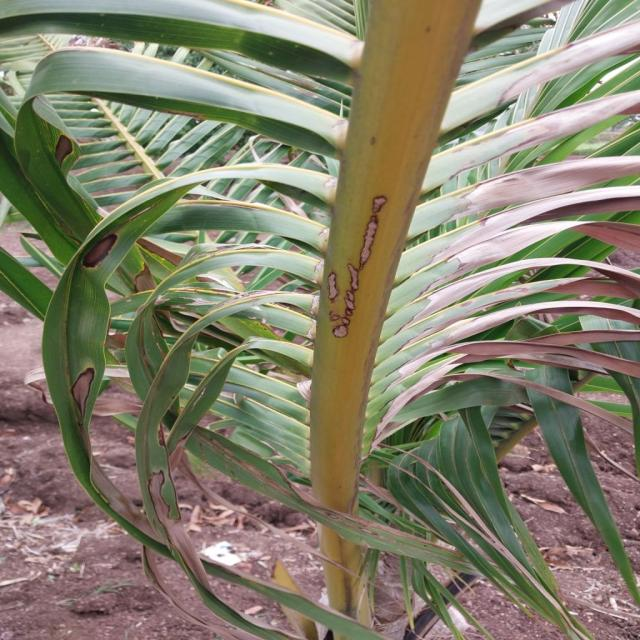gray leaf spot: (421, 17, 640, 394)
